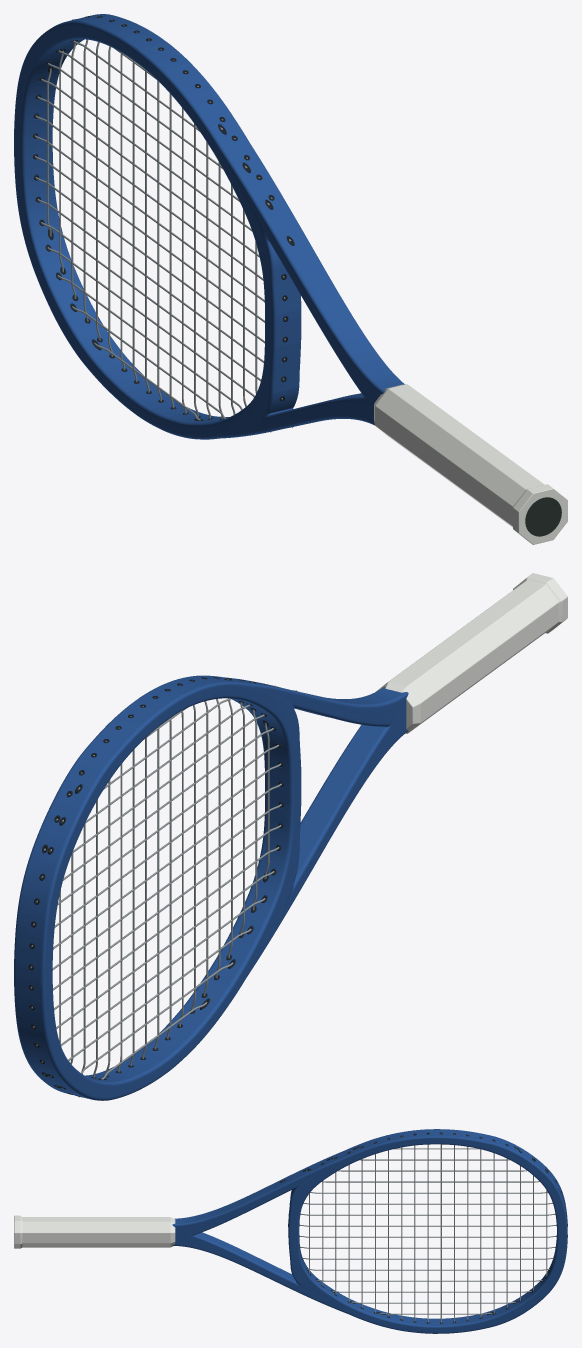
The model's file is racket.glb.
The picture shows the model from 3 angles, top to bottom: view 1: azimuth 30°, elevation 25°; view 2: azimuth 150°, elevation 25°; view 3: azimuth 270°, elevation 25°; orthographic projection. The views are drawn at different scales.
Parts seen in each view (by area): view 1: Frame, Strings, Handle, Butt_badge, Grommets, Flanges; view 2: Frame, Strings, Handle, Grommets, Flanges; view 3: Frame, Strings, Handle, Grommets.
Boxes of the visible parts, x1,y1,x2,y2 form: Frame: [14, 14, 404, 439]; Strings: [34, 16, 292, 432]; Handle: [374, 384, 567, 544]; Butt_badge: [525, 497, 561, 536]; Grommets: [33, 16, 292, 420]; Flanges: [73, 15, 294, 401]; Frame: [14, 675, 408, 1100]; Strings: [30, 678, 296, 1097]; Handle: [376, 573, 567, 733]; Grommets: [30, 677, 283, 1096]; Flanges: [28, 677, 297, 1097]; Frame: [172, 1129, 567, 1333]; Strings: [282, 1133, 556, 1322]; Handle: [14, 1215, 175, 1248]; Grommets: [281, 1133, 566, 1323].
Bounding box in the file's own units: 0.0379 × 0.2703 × 0.6859.
